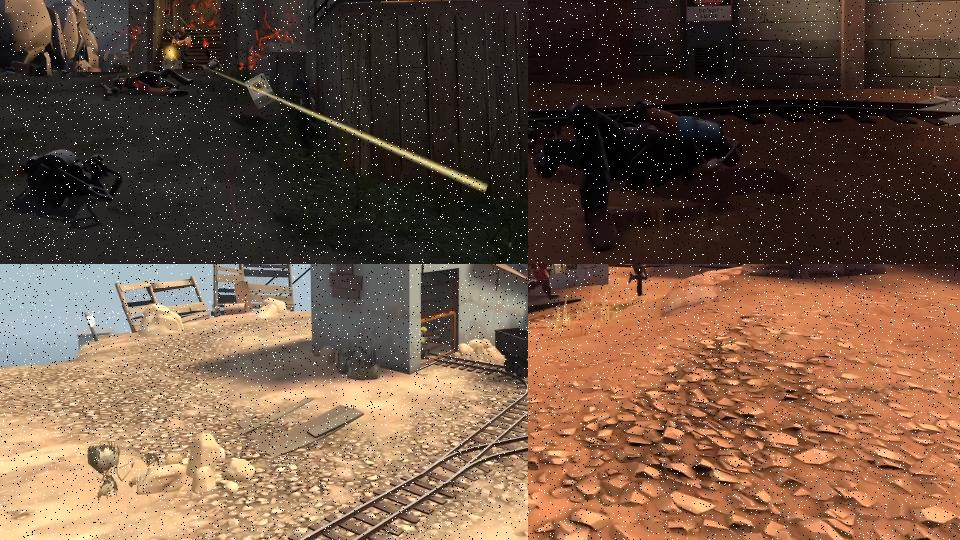Enemy: (531, 97, 747, 254), (528, 264, 598, 300), (113, 69, 194, 98), (628, 264, 658, 296), (171, 27, 191, 68)
